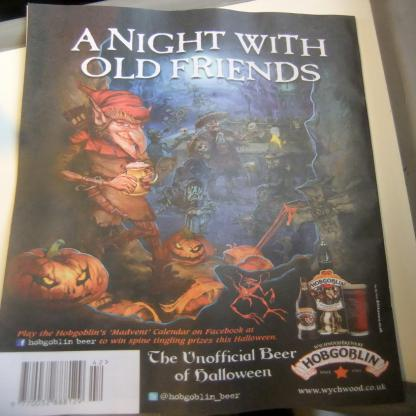book: (9, 16, 398, 390)
